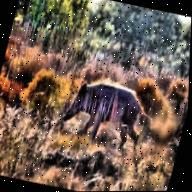boar: (47, 64, 162, 151)
